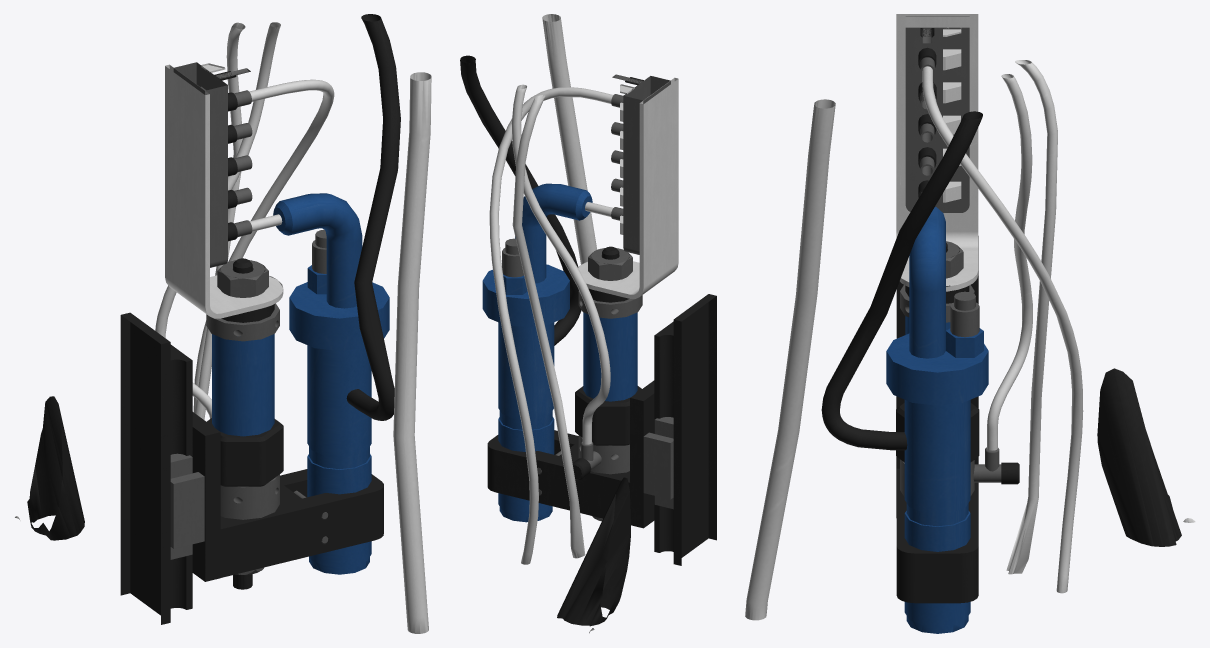
Rendered from TightenerStation_Cube20.glb.
3 views of the same model, side by side, from view 1: azimuth 30°, elevation 25°; view 2: azimuth 150°, elevation 25°; view 3: azimuth 270°, elevation 25° (orthographic). The views are drawn at different scales.
Parts seen in each view (by area): view 1: color-2.022; view 2: color-2.022; view 3: color-2.022.
Boxes of the visible parts, x1,y1,x2,y2 form: color-2.022: (15,14,431,633); color-2.022: (460,14,716,633); color-2.022: (745,14,1195,633).
Bounding box in the file's own units: 0.168 × 0.32 × 0.2468.
Materials: 4 (4 with a texture image).
